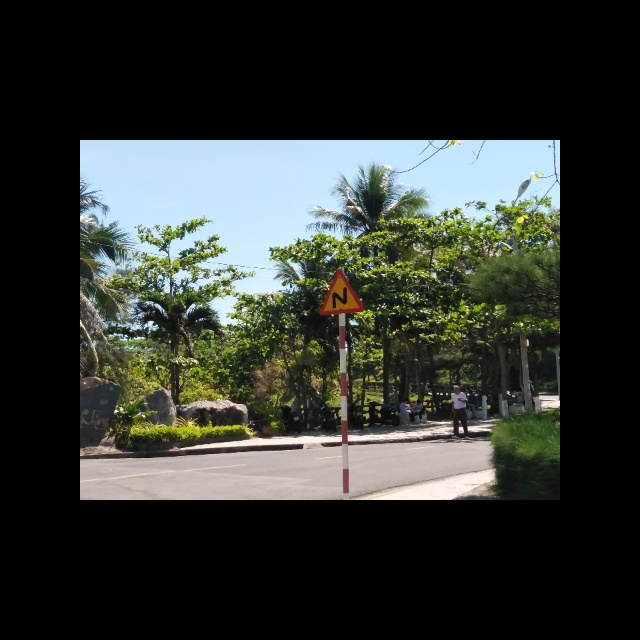Ngoặt nguy hiểm liên tiếp bên phải: (319, 269, 366, 315)
